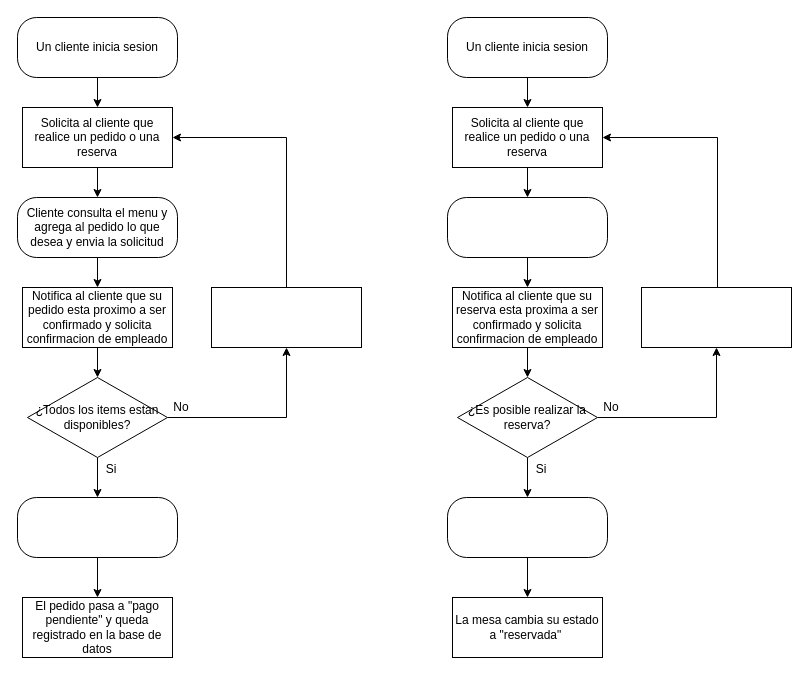
Some shapes in this 809 by 675 pixel diagram are drawn without their labels. The centre of each missing label's shape, as x and y in pixels:
El cliente elije una mesa disponible de su agrado y envia la solicitud: the point at 527,227
Empleado confirma el pedido: the point at 97,527
Empleado confirma la reserva: the point at 527,527
Informa al cliente que hubo un error en su pedido: the point at 286,317
Informa al cliente que hubo un error en su reserva: the point at 716,317
